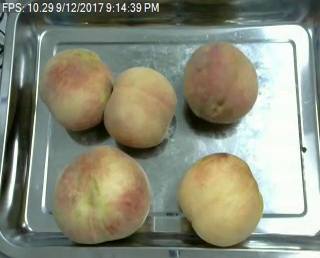Peach: (52, 145, 151, 243), (180, 151, 263, 247), (39, 46, 114, 132), (183, 40, 258, 124), (104, 67, 178, 149)
